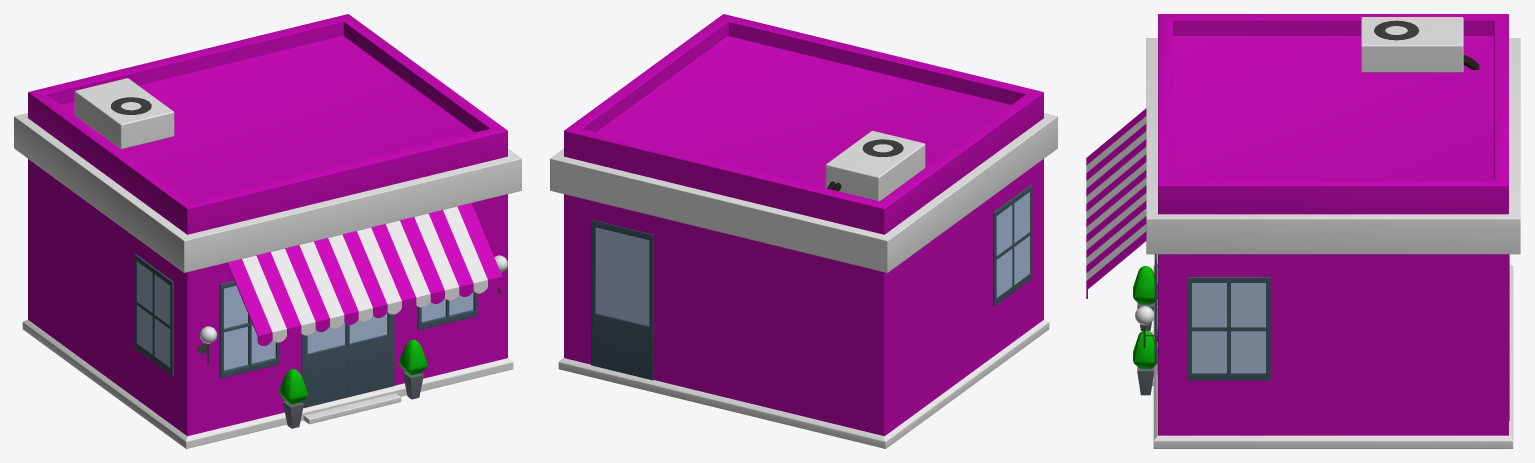
3 renders of one model, left to right at view 1: azimuth 30°, elevation 25°; view 2: azimuth 150°, elevation 25°; view 3: azimuth 270°, elevation 25°, orthographic. The views are drawn at different scales.
Parts seen in each view (by area): view 1: house; view 2: house; view 3: house.
Part boxes in pixels (x1,y1,x2,y2): house: [14, 14, 521, 448]; house: [550, 14, 1057, 448]; house: [1086, 14, 1520, 448].
Size of the model in its own units: 20.96 by 14.76 by 21.23.
